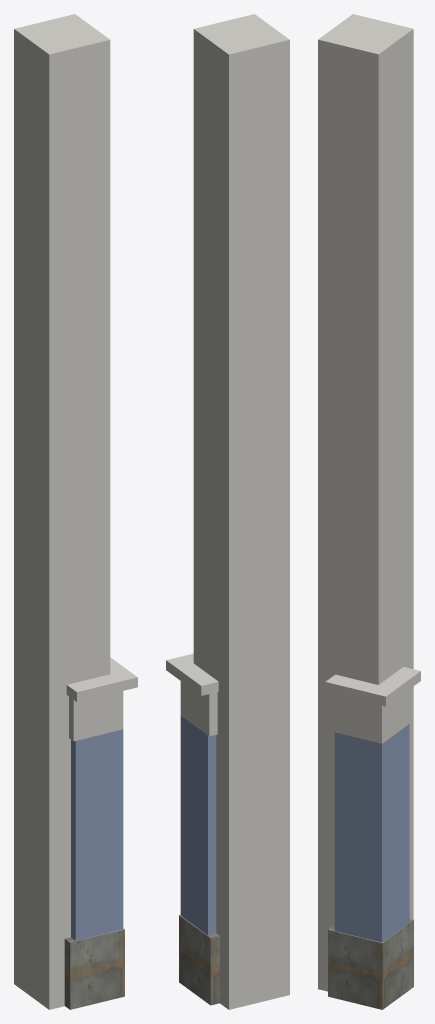
File: corner_g_d.glb
3 views of the same model, side by side, from view 1: azimuth 30°, elevation 25°; view 2: azimuth 210°, elevation 25°; view 3: azimuth 330°, elevation 25° (orthographic).
Parts seen in each view (by area): view 1: corner_g_d_trim, corner_g_d_acc_d, corner_g_d_plinth; view 2: corner_g_d_trim, corner_g_d_acc_d, corner_g_d_plinth; view 3: corner_g_d_trim, corner_g_d_acc_d, corner_g_d_plinth.
Part boxes in pixels (x1,y1,x2,y2): corner_g_d_trim: (14,14,137,1009); corner_g_d_acc_d: (71,729,123,940); corner_g_d_plinth: (64,928,124,1009); corner_g_d_trim: (166,14,289,1009); corner_g_d_acc_d: (180,716,216,935); corner_g_d_plinth: (179,915,219,1005); corner_g_d_trim: (318,14,420,991); corner_g_d_acc_d: (334,724,409,942); corner_g_d_plinth: (328,919,413,1009).
Size of the model in its own units: 0.386 by 4.49 by 0.386.
Materials: 3 (1 with a texture image).
